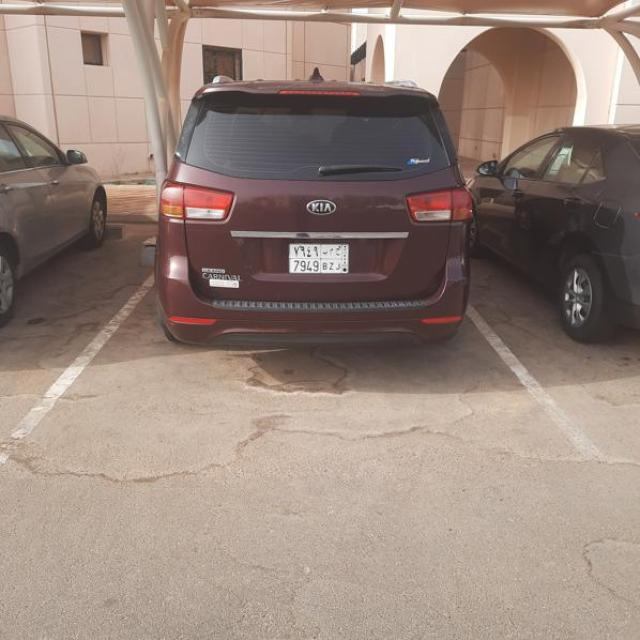license_plate: (289, 243, 348, 273)
